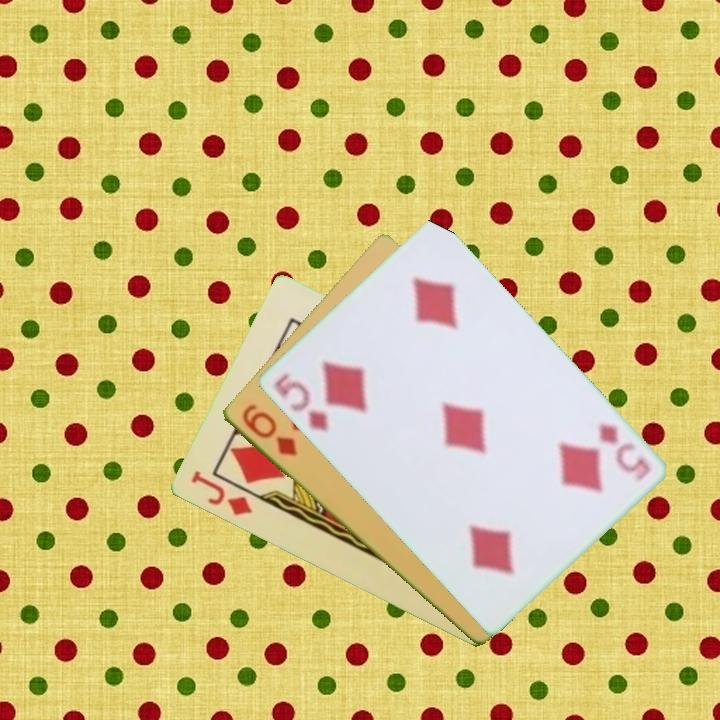5d: (270, 369, 331, 435), (594, 419, 653, 485)
6d: (237, 400, 300, 459)
Jd: (186, 467, 254, 519)
